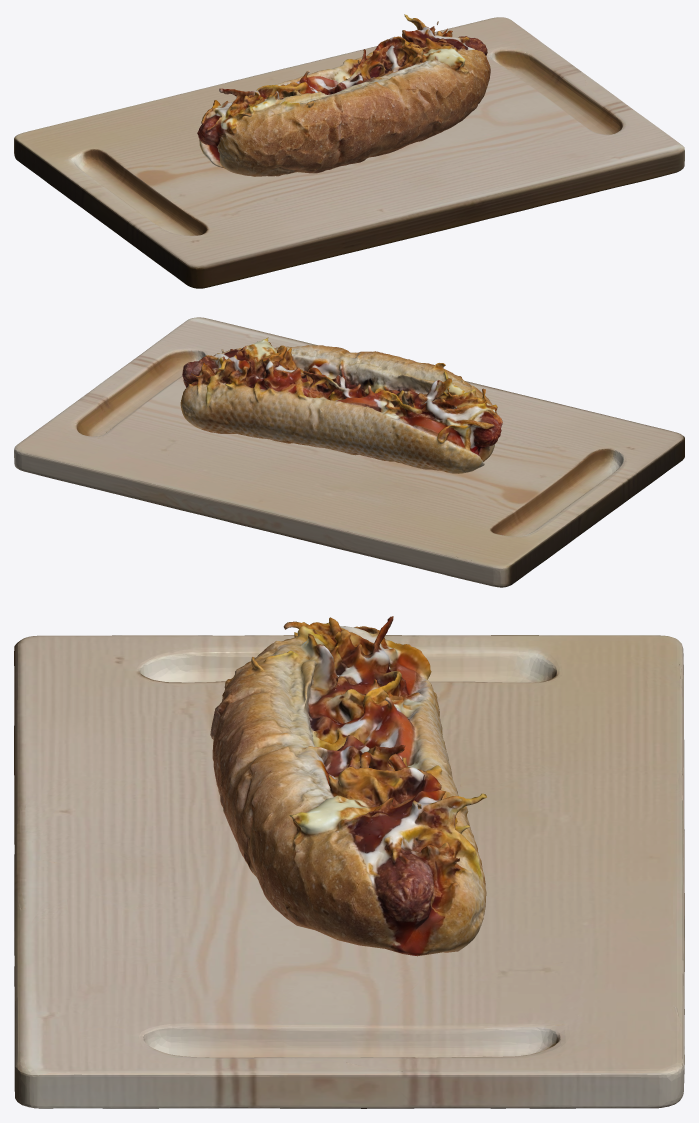
Rendered from hot.dog.glb.
3 renders of one model, top to bottom at view 1: azimuth 30°, elevation 25°; view 2: azimuth 150°, elevation 25°; view 3: azimuth 270°, elevation 25°, orthographic. The views are drawn at different scales.
Parts seen in each view (by area): view 1: world, 3DModel; view 2: world, 3DModel; view 3: world, 3DModel.
Part boxes in pixels (<box>): world: <box>14,17,684,288</box>; 3DModel: <box>197,14,490,176</box>; world: <box>14,317,684,587</box>; 3DModel: <box>180,337,502,473</box>; world: <box>14,635,684,1108</box>; 3DModel: <box>210,616,486,956</box>.
Size of the model in its own units: 0.4538 by 0.0894 by 0.2931.
2 materials, 2 textured.
